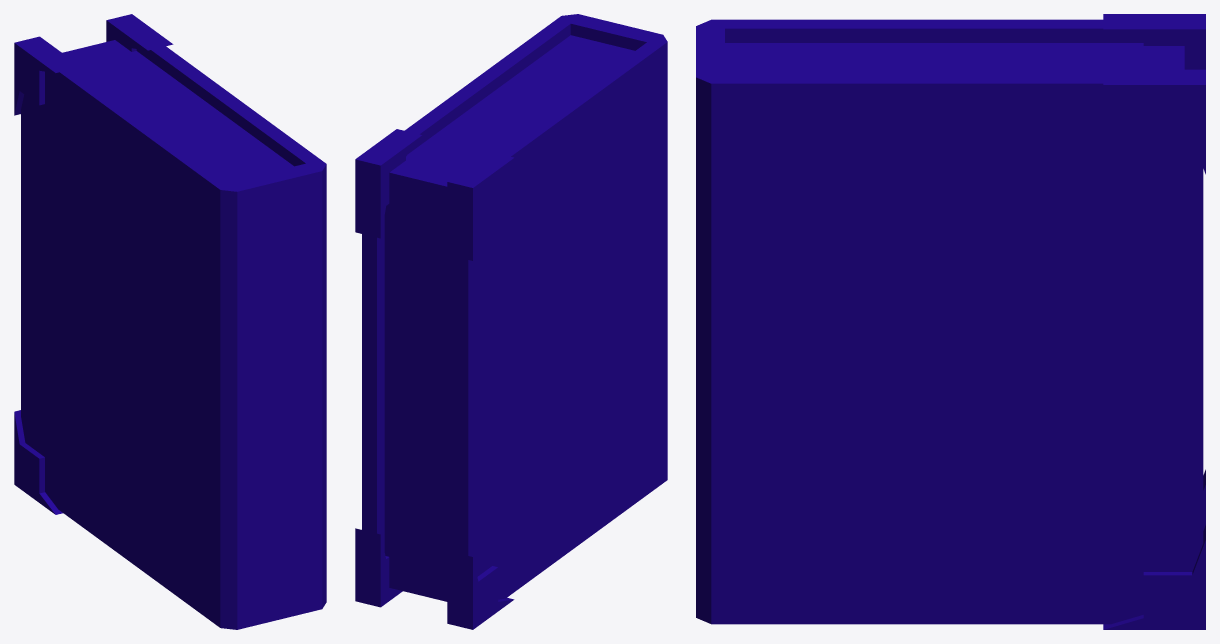
The model's file is CG_Model_TownInt_Book4_Mar24_ChrisMcknight.FBX.
3 renders of one model, left to right at view 1: azimuth 30°, elevation 25°; view 2: azimuth 150°, elevation 25°; view 3: azimuth 270°, elevation 25°, orthographic. The views are drawn at different scales.
Visible parts, largest first — view 1: Book4; view 2: Book4; view 3: Book4.
Part boxes in pixels (x1,y1,x2,y2): Book4: (14,14,326,629); Book4: (355,14,667,629); Book4: (696,14,1205,629).
Bounding box in the file's own units: 1.03 × 3.68 × 3.11.
